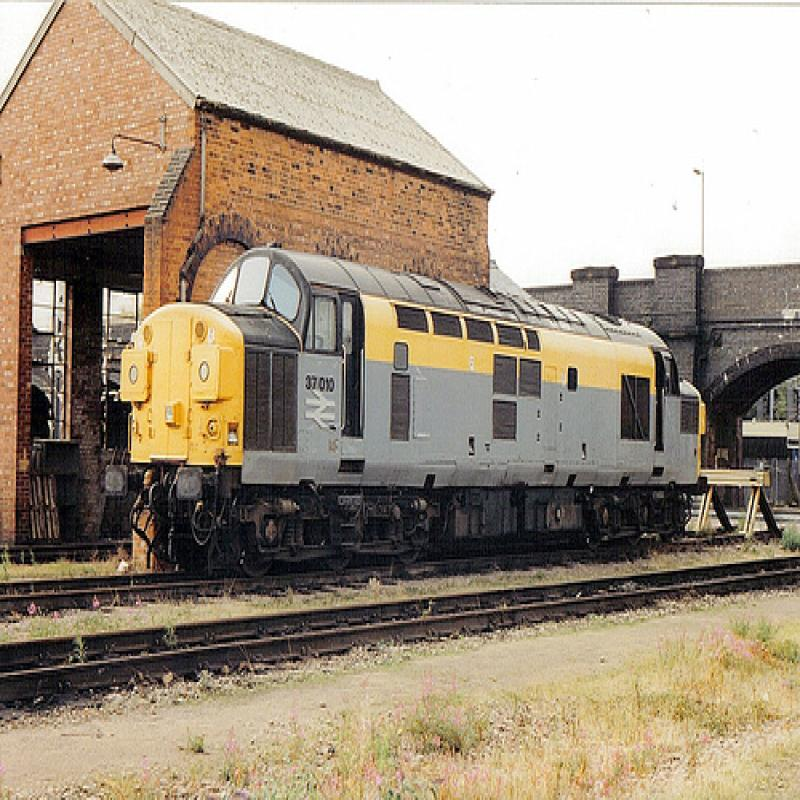train: (120, 239, 707, 577)
